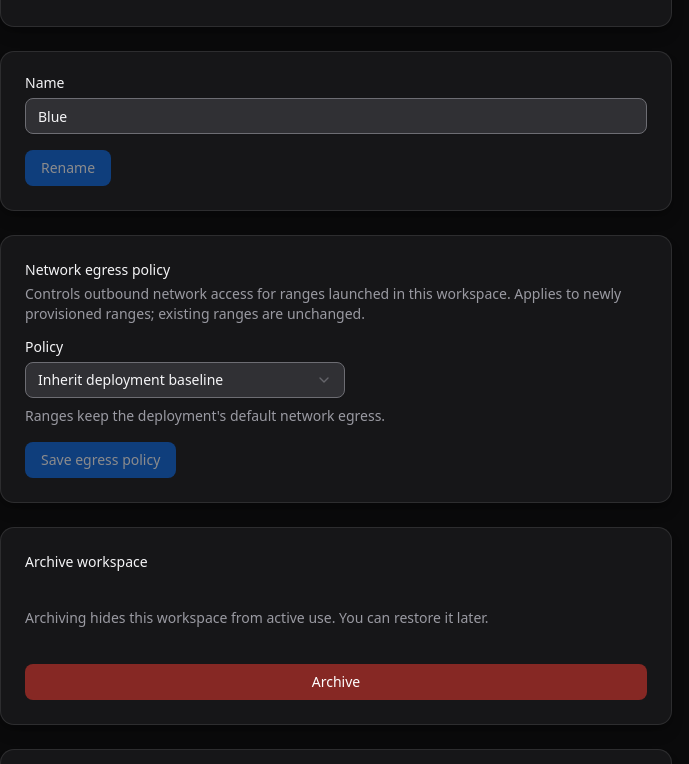
Test: WorkspaceDetailPage › sets the workspace egress policy through the API
(page scrolled)
Click the dropdown named "Network egress policy" at (185, 380), box [25, 362, 345, 398]
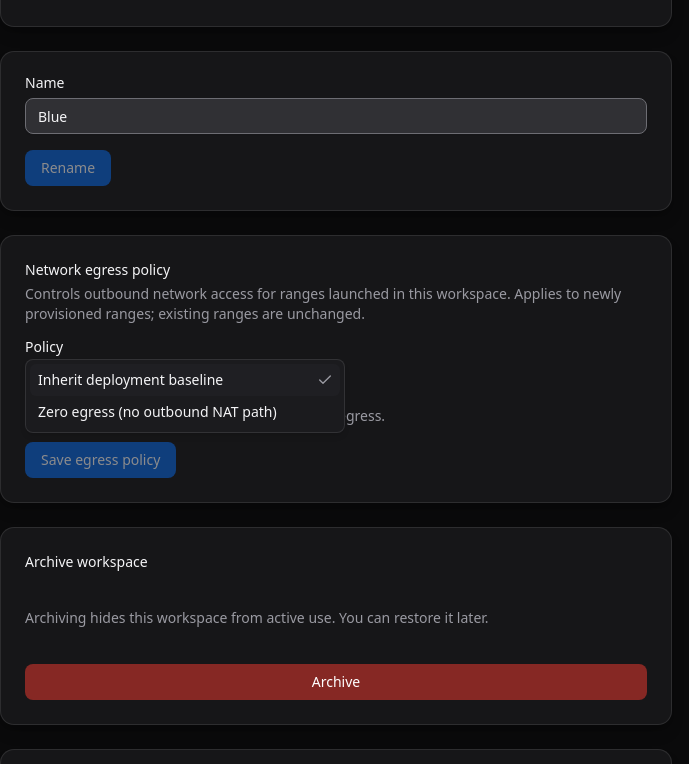
Click the option "Zero egress (no outbound NAT path)" at (157, 412), box [38, 402, 277, 421]
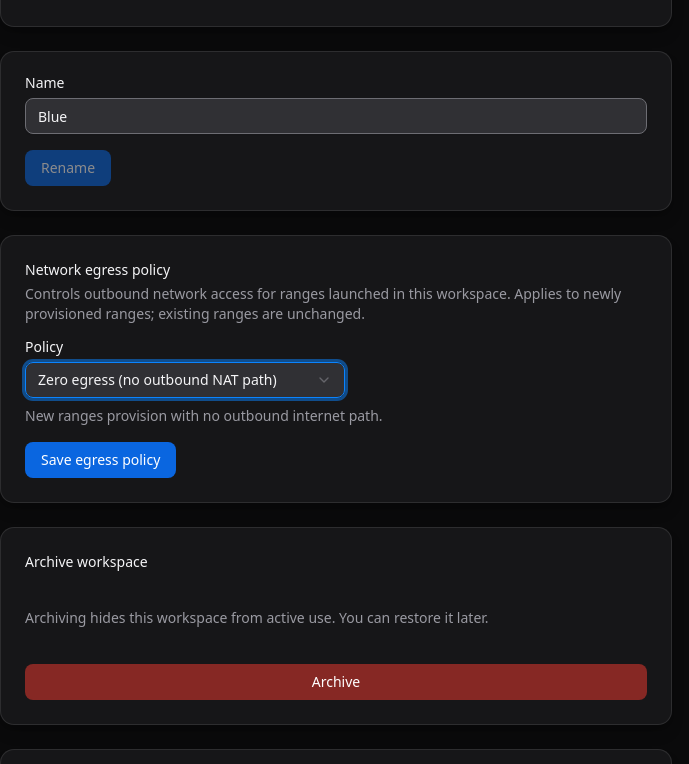
Click the button "Save egress policy" at (101, 460), box [25, 442, 176, 478]
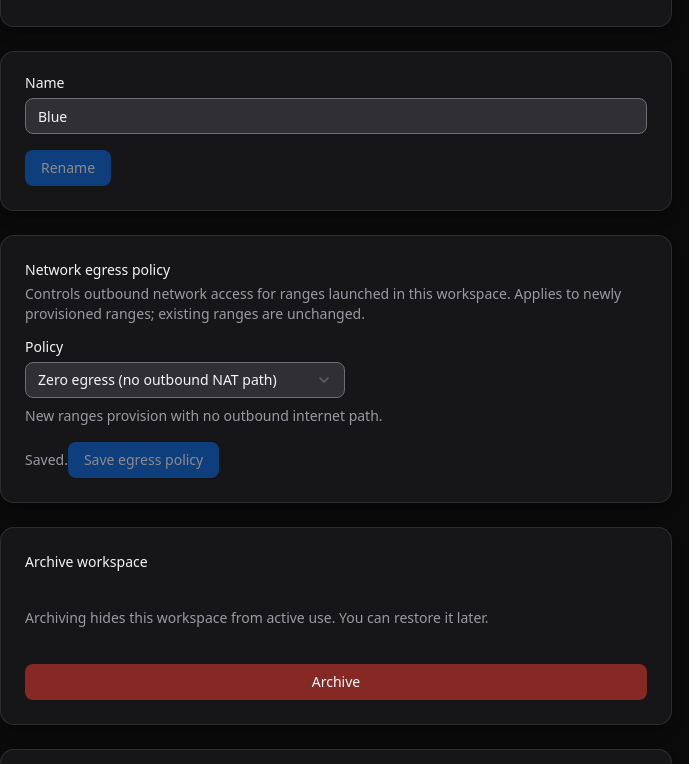
Result: the text "Saved." is shown at [25, 450, 68, 469]
Result: the button "Save egress policy" is disabled at [68, 442, 219, 478]
